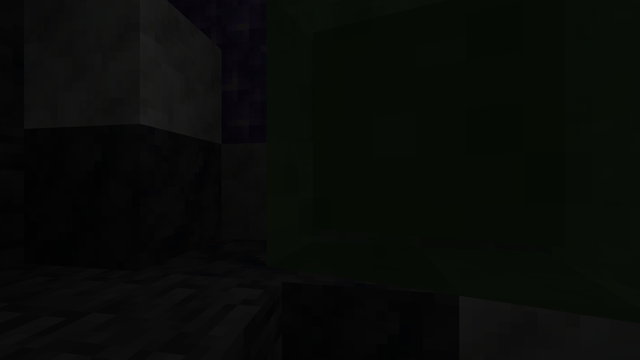slimes: (273, 1, 603, 306)
